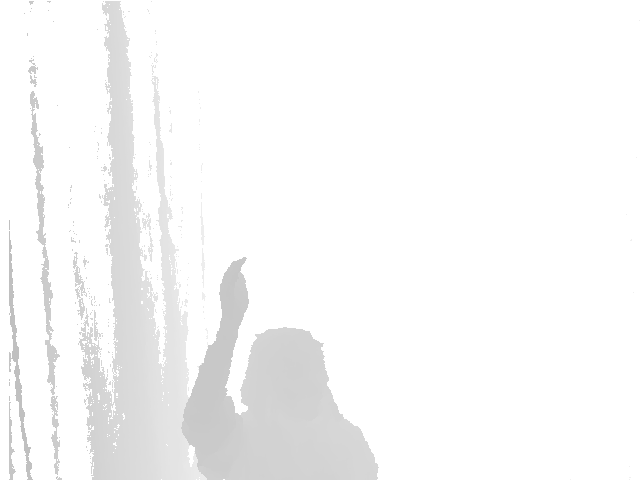hand: (219, 255, 248, 324)
head: (241, 327, 329, 421)
person: (180, 255, 380, 480)
